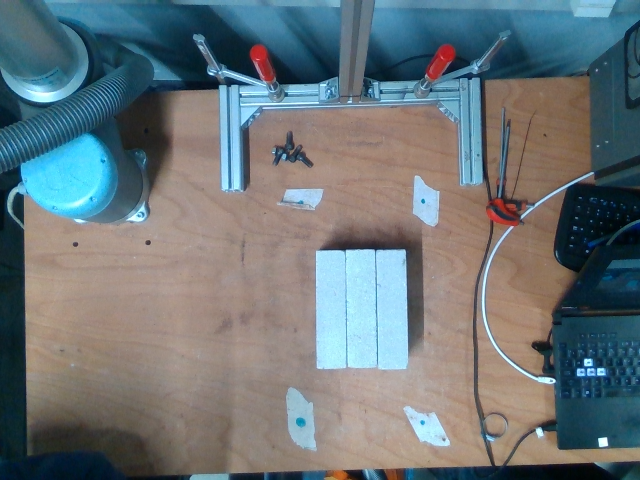brick-side: (345, 250, 375, 366), (378, 250, 407, 369), (317, 252, 344, 368)
